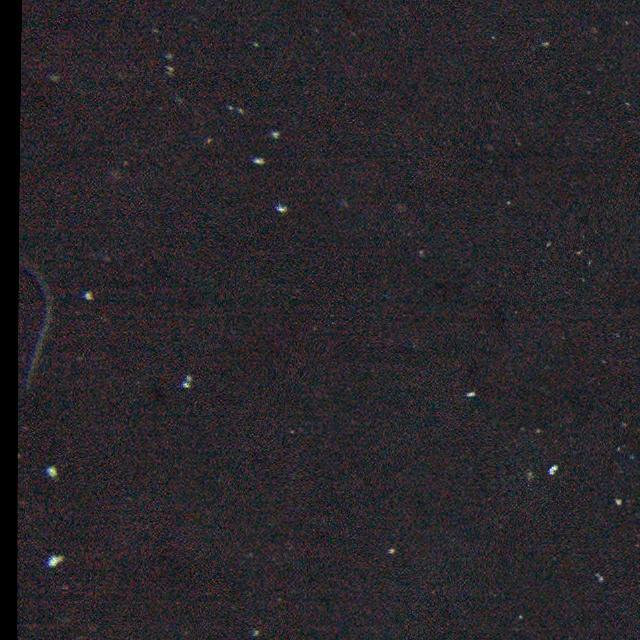eel: (19, 254, 59, 396)
